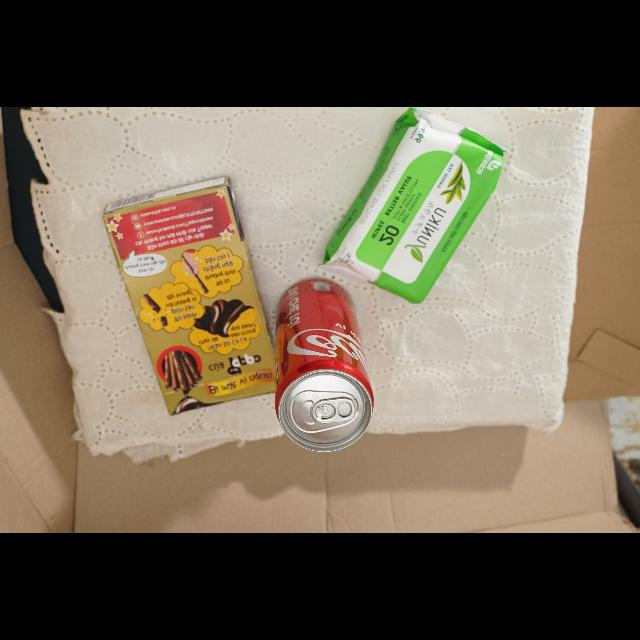banh_toppo_socola: (103, 177, 274, 414)
coca_cola: (275, 279, 374, 451)
khan_giay: (324, 108, 506, 303)
